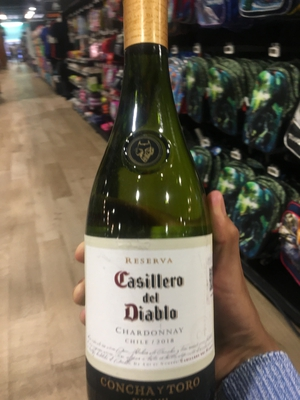casillero del diablo chardonnay: (83, 4, 227, 400)
